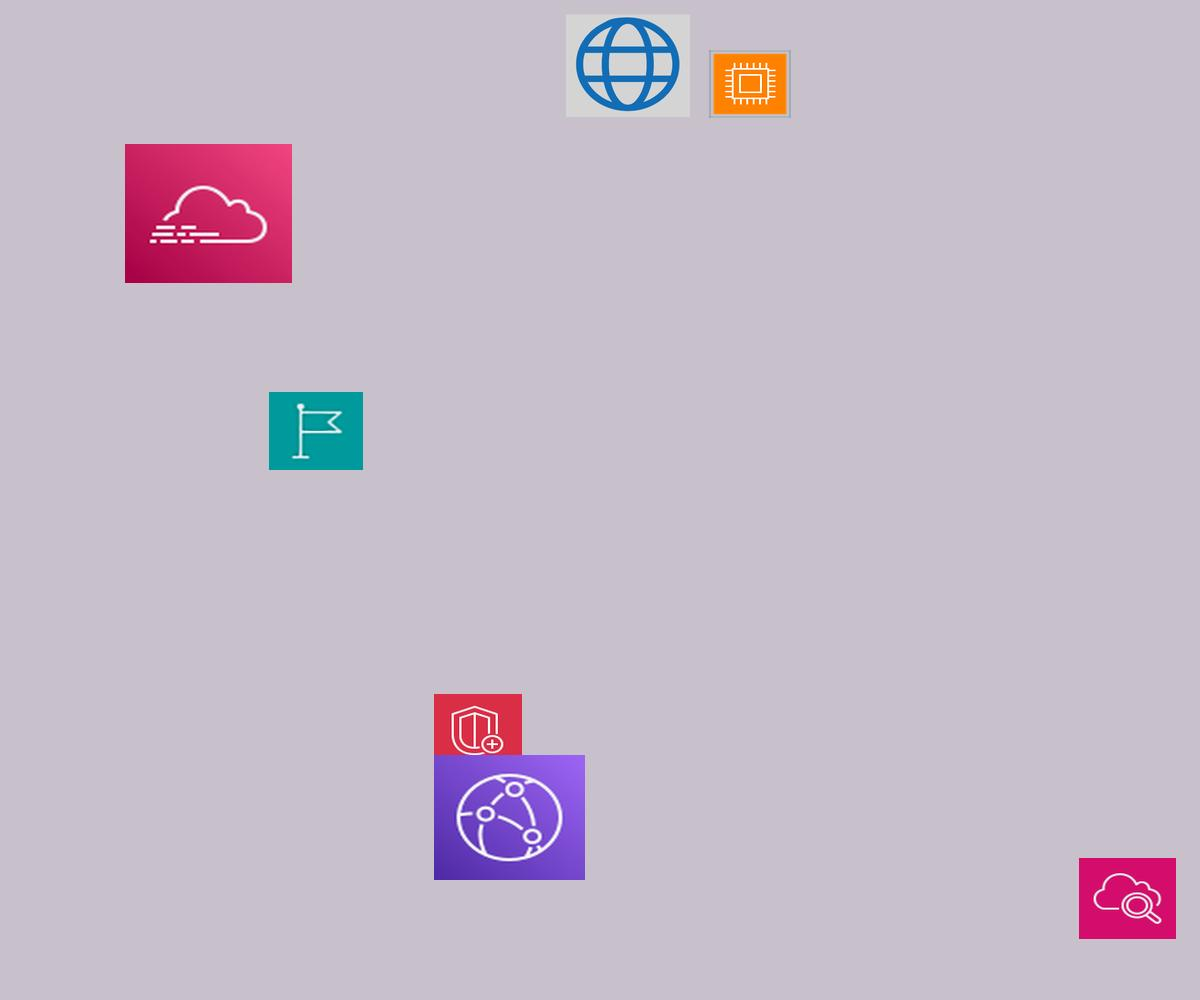AWS-Category_Compute: (709, 50, 791, 118)
AWS-CloudFront: (434, 755, 585, 880)
AWS-CloudTrail: (125, 144, 292, 283)
AWS-CloudWatch: (1079, 858, 1176, 939)
AWS-Region: (269, 392, 363, 470)
AWS-Shield: (434, 694, 522, 767)
Azure_http: (566, 14, 690, 117)
